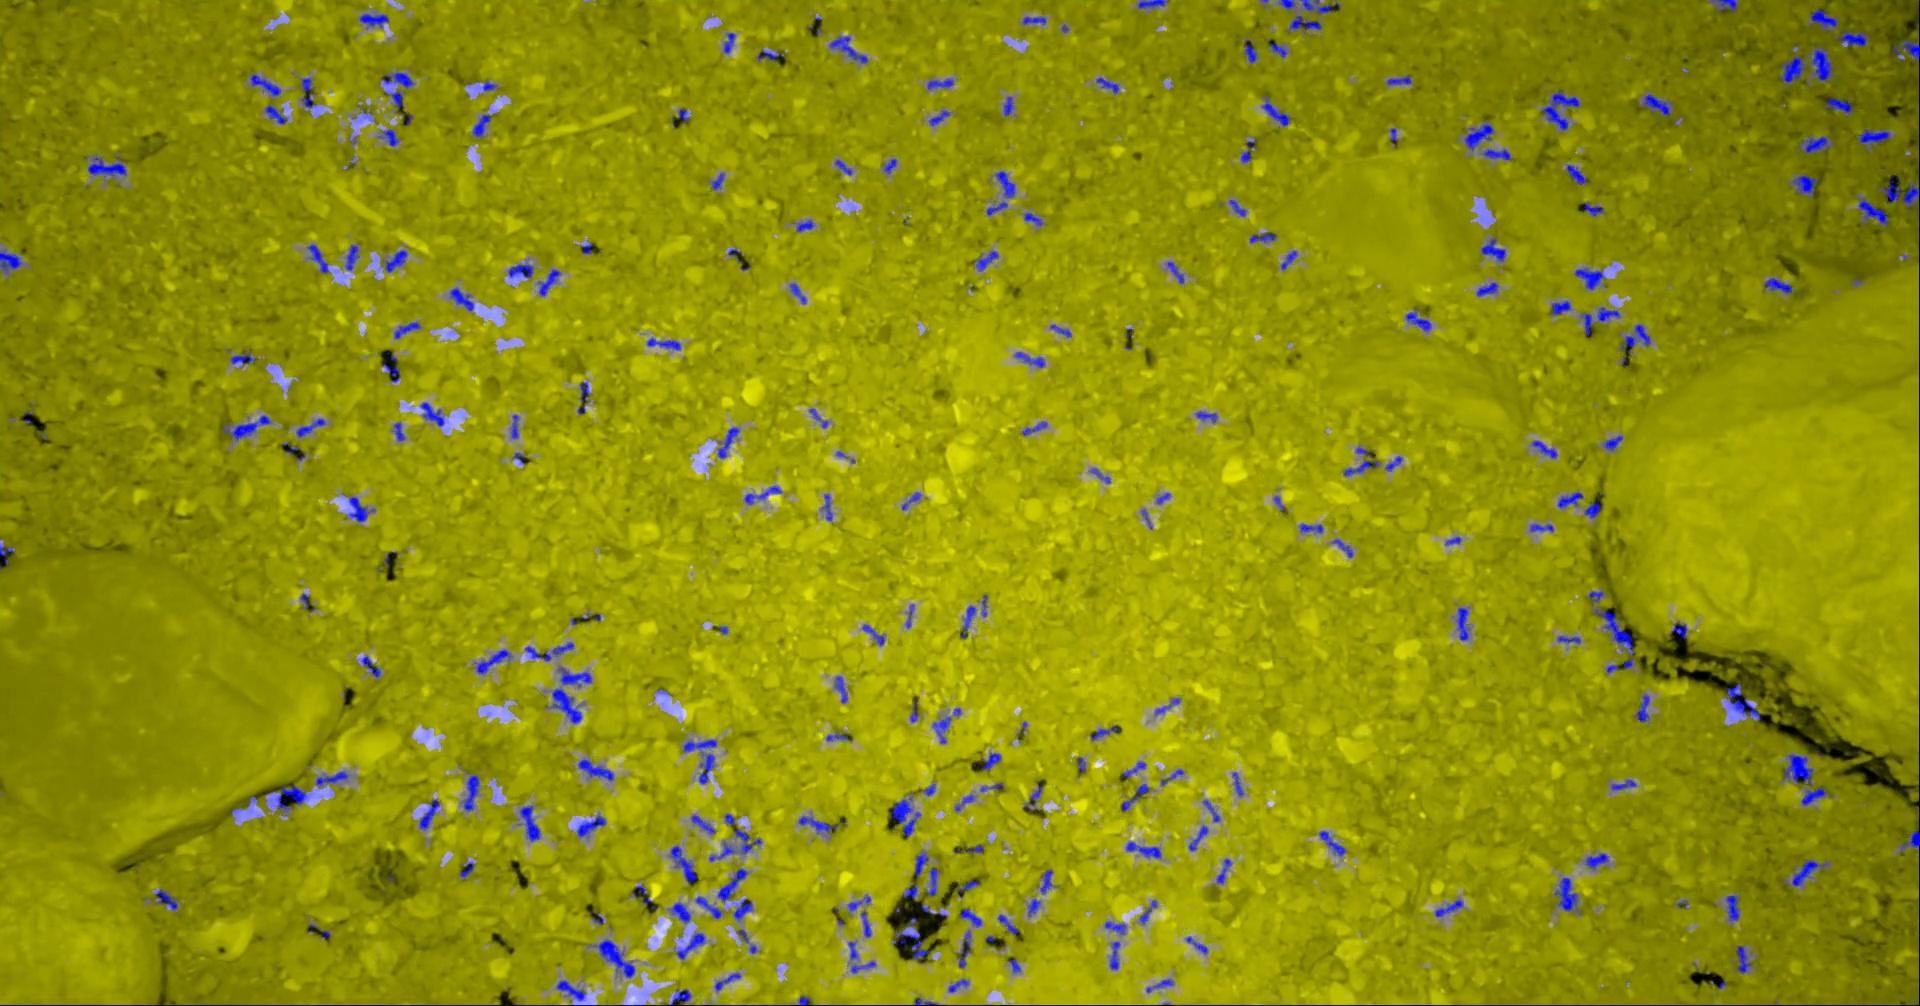ant: (1876, 173, 1919, 248), (1594, 608, 1634, 668), (1783, 753, 1826, 805), (1779, 46, 1832, 84), (709, 828, 761, 861), (593, 937, 635, 977), (682, 739, 716, 782), (1542, 90, 1578, 130), (1724, 683, 1760, 720), (546, 686, 582, 723), (1783, 859, 1829, 887), (270, 782, 307, 815), (891, 929, 930, 960), (1891, 25, 1919, 69), (221, 415, 270, 439), (890, 796, 919, 836), (829, 36, 867, 64), (1343, 446, 1379, 475), (669, 845, 696, 882), (1463, 119, 1493, 151), (717, 868, 747, 901), (556, 981, 596, 1005), (1619, 323, 1650, 353), (1898, 807, 1919, 852), (524, 641, 573, 661), (472, 649, 510, 673), (1858, 197, 1887, 226), (1554, 876, 1578, 911), (88, 155, 126, 177), (1261, 95, 1289, 124), (577, 758, 613, 780), (1120, 782, 1148, 810), (518, 805, 540, 841), (1857, 128, 1890, 151), (249, 72, 279, 97), (1641, 93, 1672, 116), (717, 426, 739, 459), (557, 666, 590, 687), (676, 934, 703, 959), (744, 485, 781, 504), (797, 815, 837, 833), (348, 495, 375, 521), (1318, 829, 1345, 855), (1575, 267, 1604, 290), (1404, 307, 1431, 332), (306, 244, 328, 273), (419, 799, 439, 829), (695, 895, 721, 918), (1797, 136, 1834, 152), (462, 774, 479, 810), (1810, 9, 1837, 30), (1790, 174, 1818, 196), (577, 814, 604, 836), (1288, 15, 1321, 33), (1125, 841, 1161, 857), (420, 401, 444, 426), (537, 269, 560, 295), (1481, 238, 1505, 260), (383, 249, 408, 272), (380, 71, 413, 88), (959, 605, 975, 638), (295, 418, 325, 436), (957, 929, 971, 967), (1835, 30, 1867, 47), (450, 287, 472, 310), (315, 770, 349, 785), (1822, 97, 1851, 114), (973, 250, 998, 271), (996, 170, 1015, 197), (1023, 784, 1043, 810), (1299, 0, 1338, 13), (0, 249, 22, 272), (1583, 493, 1604, 517), (1763, 277, 1792, 293), (1015, 351, 1044, 367), (1434, 899, 1463, 916), (932, 716, 950, 743), (714, 972, 740, 989), (862, 624, 884, 645), (155, 888, 177, 909), (300, 77, 315, 108), (472, 113, 493, 136), (392, 321, 420, 338), (577, 381, 590, 414), (1735, 945, 1751, 973), (1531, 439, 1556, 459), (690, 814, 714, 833), (1189, 826, 1208, 850), (1120, 761, 1145, 779), (631, 883, 651, 904), (997, 915, 1018, 935), (264, 104, 287, 123), (646, 337, 681, 349), (1557, 492, 1582, 508), (1455, 607, 1468, 640), (1566, 164, 1586, 184), (1331, 539, 1352, 558), (361, 655, 380, 677), (733, 898, 752, 920), (670, 902, 690, 923), (359, 13, 389, 27), (1090, 727, 1119, 741), (344, 244, 359, 271), (956, 879, 979, 897), (959, 908, 982, 926), (1154, 699, 1178, 715), (1636, 694, 1650, 721), (1145, 978, 1173, 992), (1239, 137, 1255, 163), (1203, 799, 1220, 821), (1167, 260, 1183, 283), (1161, 768, 1183, 785), (1139, 901, 1156, 923), (1185, 936, 1208, 953), (507, 263, 533, 277), (924, 866, 937, 895), (808, 408, 827, 427), (378, 128, 399, 146), (789, 283, 806, 304), (1022, 420, 1048, 434), (834, 674, 847, 702), (1217, 857, 1230, 883), (1724, 894, 1738, 920), (1095, 77, 1117, 93), (1596, 306, 1619, 321), (1585, 854, 1608, 869), (667, 989, 690, 1005), (1710, 0, 1737, 13), (982, 752, 1001, 770), (1280, 250, 1297, 271), (954, 794, 974, 810), (1577, 202, 1603, 215), (850, 960, 875, 973), (1476, 282, 1498, 296), (914, 854, 928, 876), (847, 895, 870, 909), (902, 492, 919, 509), (382, 363, 399, 382), (383, 91, 404, 107), (1481, 149, 1511, 159), (1090, 467, 1110, 483), (230, 352, 254, 365), (860, 911, 871, 937), (985, 201, 1007, 215), (1384, 455, 1402, 471), (1269, 42, 1288, 57), (927, 77, 952, 89), (1550, 300, 1570, 315), (1580, 312, 1592, 335), (1603, 434, 1622, 450), (928, 111, 949, 124), (1109, 941, 1119, 969), (1232, 771, 1243, 795), (1040, 869, 1051, 893), (723, 32, 735, 53), (1049, 324, 1070, 337), (1103, 921, 1125, 934), (757, 50, 783, 60), (834, 159, 852, 174), (1250, 232, 1276, 243), (822, 493, 832, 520), (1671, 621, 1686, 639), (0, 545, 14, 564), (949, 978, 968, 992), (1244, 39, 1256, 62), (1610, 779, 1636, 789), (1229, 199, 1244, 216), (1195, 410, 1217, 422), (1299, 523, 1323, 533), (1023, 212, 1043, 225), (1137, 0, 1167, 8), (902, 883, 916, 899), (1385, 75, 1411, 84), (711, 171, 724, 189), (1027, 898, 1040, 916), (1002, 97, 1013, 116), (392, 420, 404, 439), (883, 158, 897, 173), (458, 862, 474, 876), (796, 218, 813, 231), (913, 997, 940, 1005), (728, 248, 742, 262), (1277, 0, 1297, 10), (1587, 589, 1603, 602), (1021, 17, 1045, 24), (510, 414, 518, 438), (1529, 523, 1553, 531), (825, 733, 850, 741), (1007, 958, 1020, 972), (1557, 635, 1580, 643), (965, 843, 983, 852), (848, 941, 857, 959), (678, 107, 688, 122), (910, 697, 917, 721), (1077, 756, 1084, 774)
